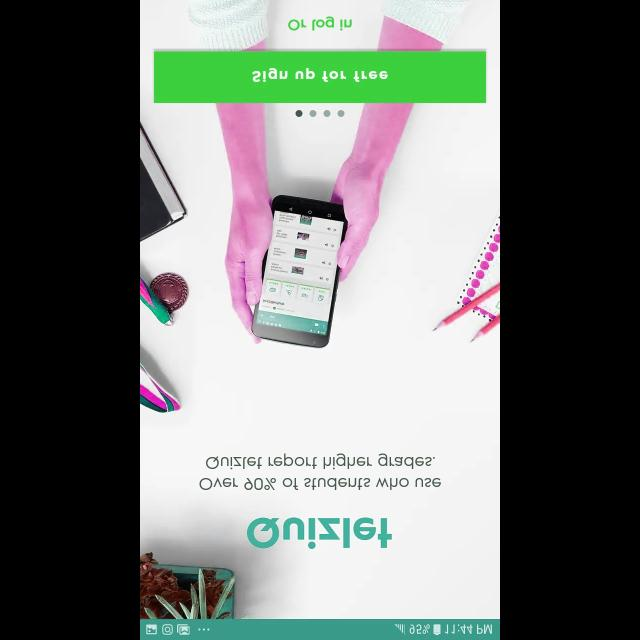backgroundimage: (140, 0, 500, 618)
pageindicator: (295, 110, 345, 118)
text: (200, 454, 440, 491), (248, 517, 392, 549), (288, 16, 352, 30)
textbutton: (154, 51, 486, 103)
uppertaskbar: (140, 618, 500, 640)
